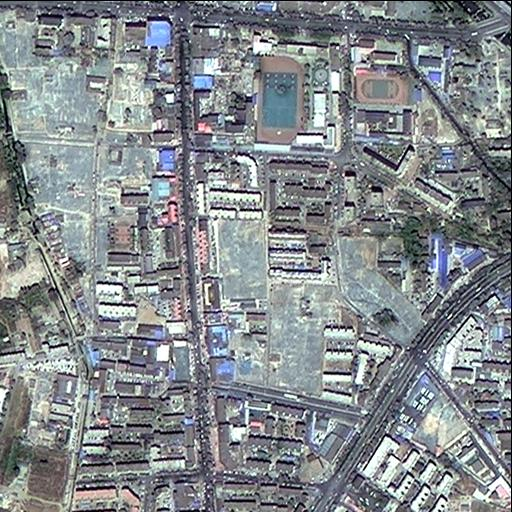school: (251, 52, 342, 155), (347, 63, 418, 146), (101, 210, 140, 263)
